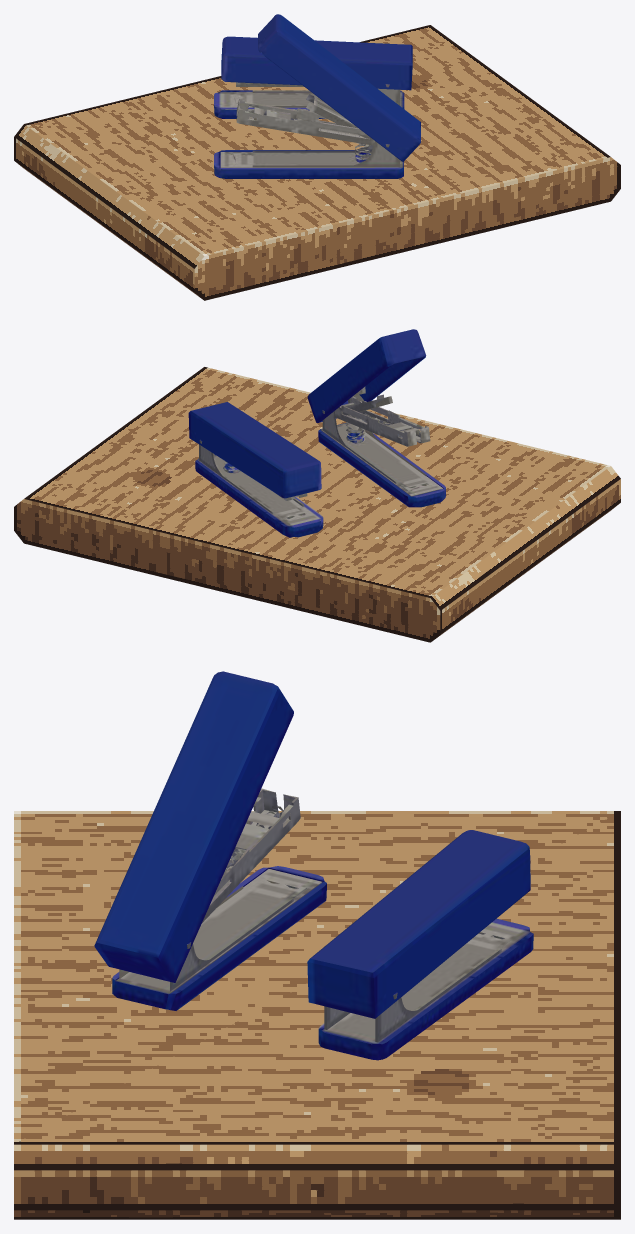
File: stapler.glb
3 renders of one model, top to bottom at view 1: azimuth 30°, elevation 25°; view 2: azimuth 150°, elevation 25°; view 3: azimuth 270°, elevation 25°, orthographic. The views are drawn at different scales.
Parts seen in each view (by area): view 1: base, model_m; view 2: base, model_m; view 3: base, model_m.
Boxes of the visible parts, x1,y1,x2,y2 form: base: (14,25,620,300); model_m: (214,14,420,178); base: (14,367,620,642); model_m: (188,329,445,537); base: (14,811,620,1219); model_m: (94,671,533,1060).
Bounding box in the file's own units: 30 × 13 × 22.
Materials: 2 (2 with a texture image).
